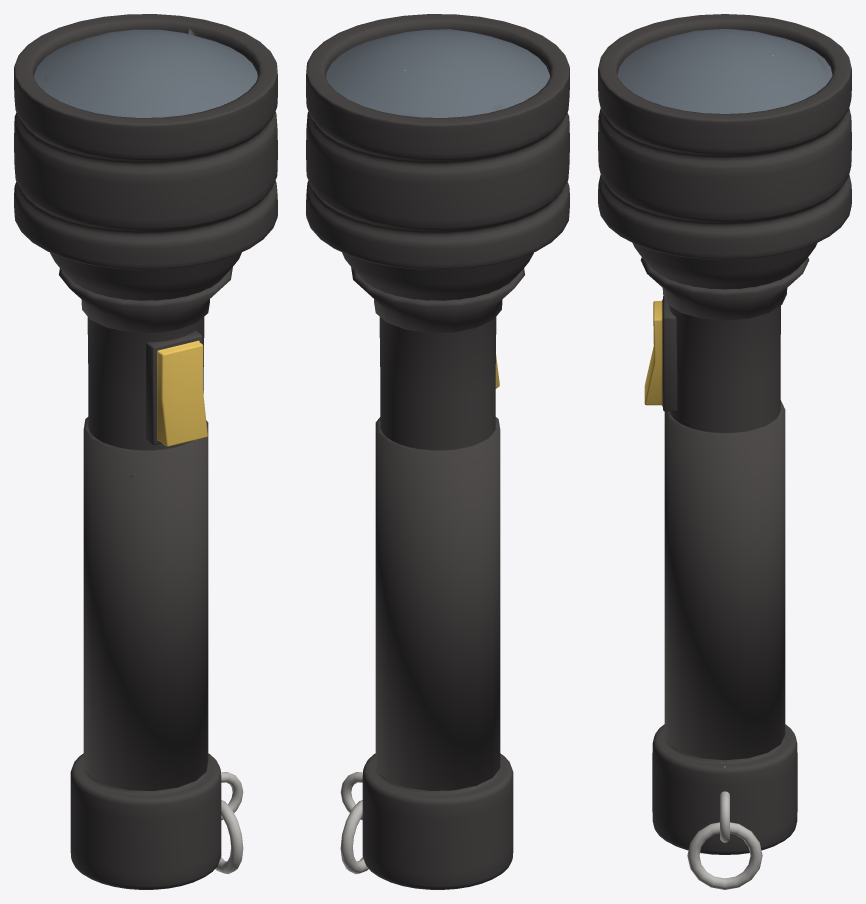
Rendered from flashlight.fbx.
3 renders of one model, left to right at view 1: azimuth 30°, elevation 25°; view 2: azimuth 150°, elevation 25°; view 3: azimuth 270°, elevation 25°, orthographic. The views are drawn at different scales.
Visible parts, largest first — view 1: flashlight; view 2: flashlight; view 3: flashlight.
Boxes of the visible parts, x1,y1,x2,y2 form: flashlight: [14, 14, 277, 889]; flashlight: [306, 14, 569, 889]; flashlight: [598, 14, 851, 889].
Bounding box in the file's own units: 11.28 × 39.7 × 11.28.
Materials: 1 (1 with a texture image).
